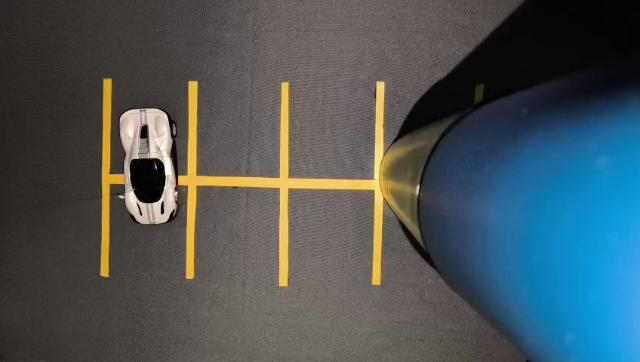toy_car: (100, 85, 203, 246)
